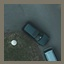car: (22, 23, 49, 46)
